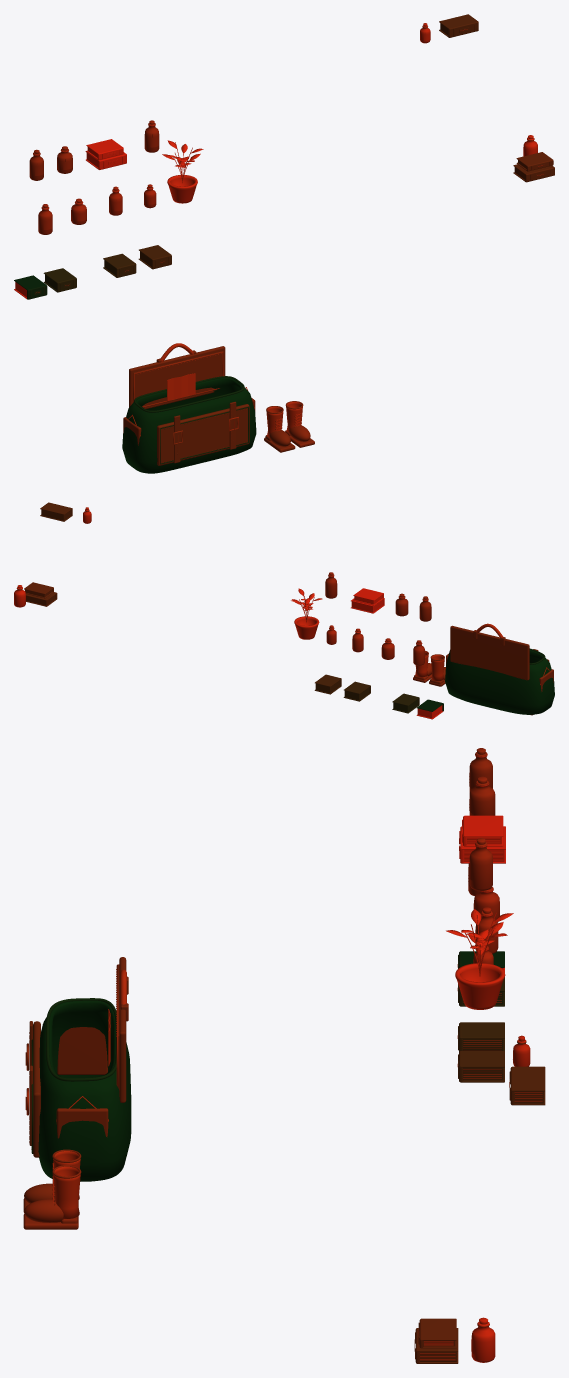
The model's file is workshop.glb.
3 views of the same model, one above another, from view 1: azimuth 30°, elevation 25°; view 2: azimuth 150°, elevation 25°; view 3: azimuth 270°, elevation 25° (orthographic). The views are drawn at different scales.
Visible parts, largest first — view 1: outlined_quality_return_bag, outlined_quality_shelf; view 2: outlined_quality_return_bag, outlined_quality_shelf; view 3: outlined_quality_return_bag, outlined_quality_shelf.
Boxes of the visible parts, x1,y1,x2,y2 form: outlined_quality_return_bag: [122, 343, 314, 473]; outlined_quality_shelf: [14, 14, 554, 299]; outlined_quality_return_bag: [413, 623, 554, 715]; outlined_quality_shelf: [14, 502, 443, 719]; outlined_quality_return_bag: [23, 957, 131, 1229]; outlined_quality_shelf: [414, 748, 545, 1363].
Size of the model in its own units: 8.94 by 3.96 by 4.64.
